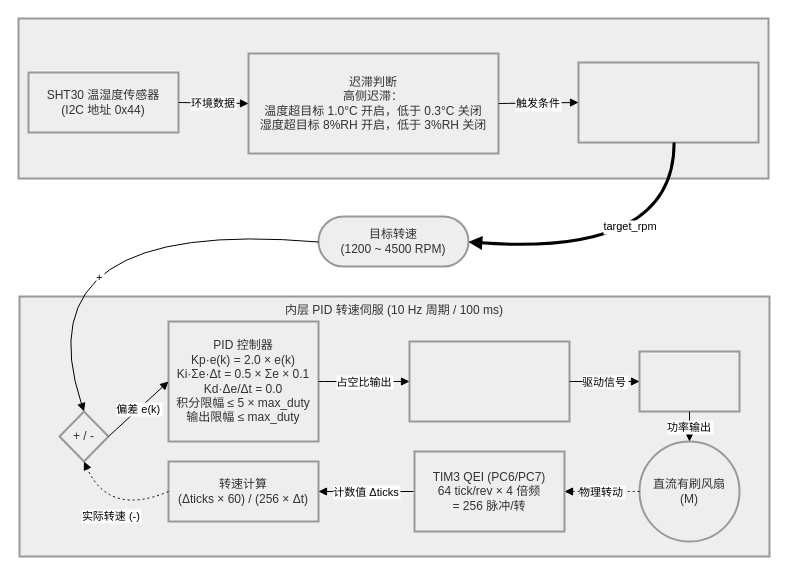
This 787x574 diagram has some shape labels left out. The shapes that lost their labels are listed below. From the top down, each one's box as (x1, y1, x2, y2) in pixels, then its label:
(17, 17, 769, 179): 外层调度器 (2 Hz 周期 / 500 ms)
(577, 61, 759, 143): 比例映射 将温湿度偏差线性映射为 1200 ~ 4500 RPM 目标转速
(408, 340, 570, 422): TIM1 CH1 (PE9) 20 kHz 频率 方向控制 GPIO PE10/PE11
(638, 350, 740, 412): TB6612 H 桥驱动
